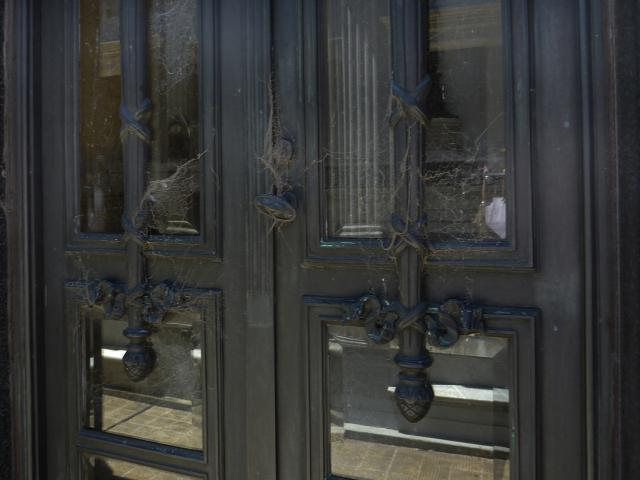Door-handle: (250, 191, 303, 225)
